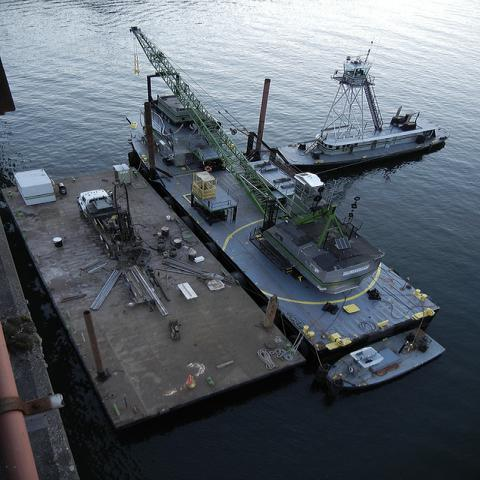truck: (76, 180, 144, 254)
